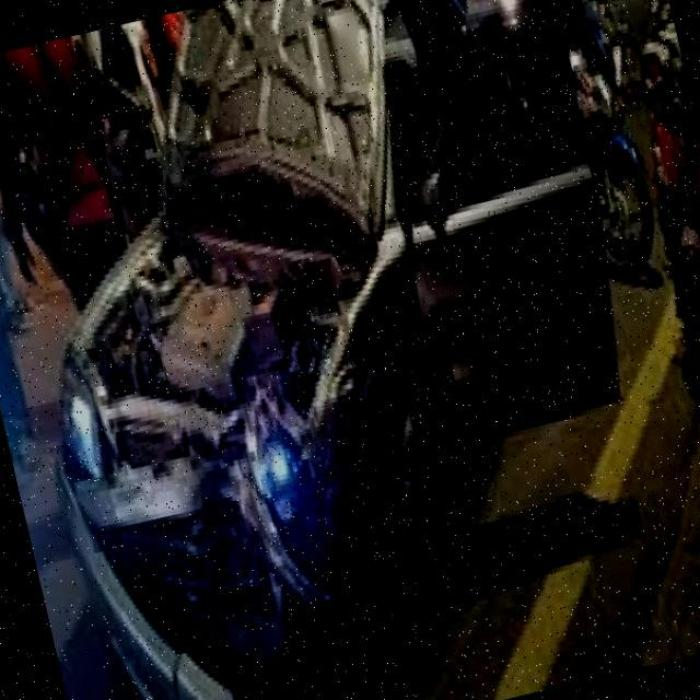Accident: (0, 0, 557, 700)
